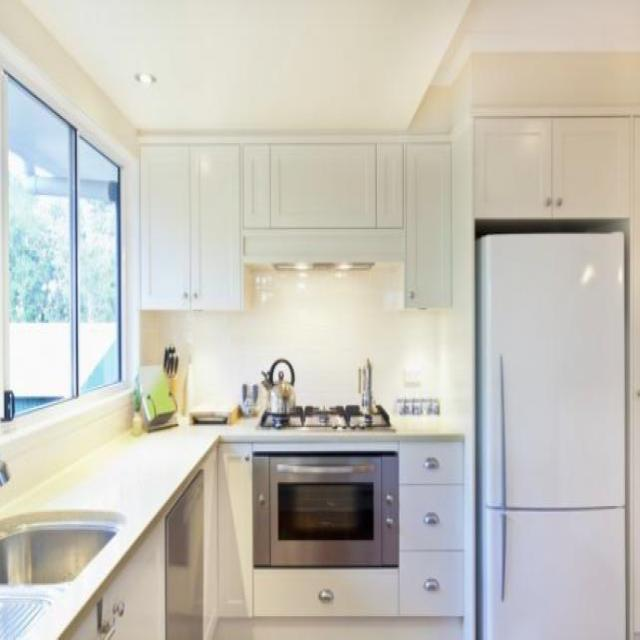dishwasher: (164, 466, 203, 638)
